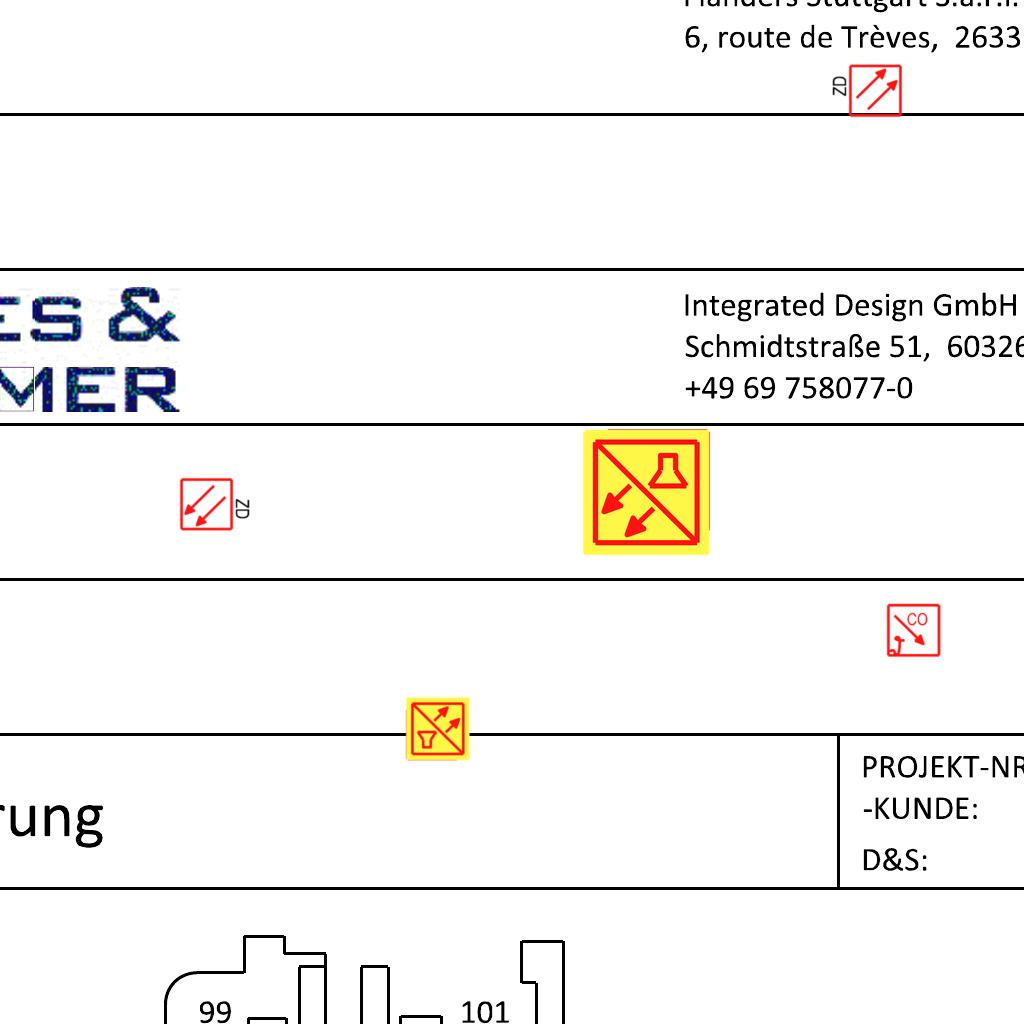OKW_Multisensormelder_(Kombination_optischer_Rauch-Kahlenmonoxid_Waerme-Melder): (580, 426, 712, 558), (405, 696, 471, 762)
ROA_Rauchmelder_optisch_mit_Signalgeber_(Sockelsirene): (886, 603, 942, 659)
ZD_Melder_in_Zwischendecke_mit_Revisionsoeffnung_mind_40_x_40_cm: (829, 63, 903, 120), (179, 475, 253, 532)
